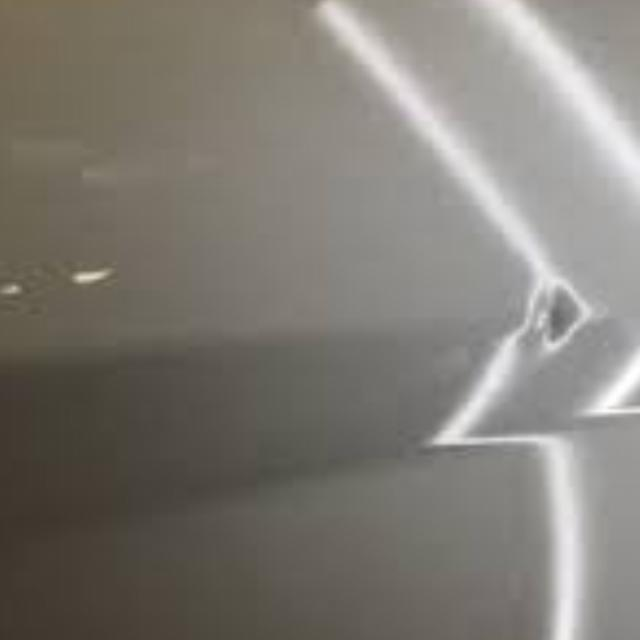dents: (475, 271, 640, 445)
